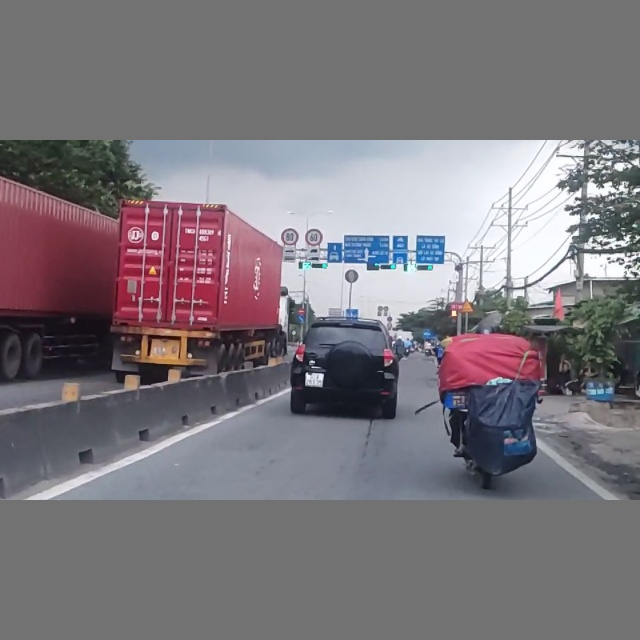P.102: (297, 307, 305, 315)
P.127*60: (305, 228, 323, 247)
P.127*80: (281, 228, 299, 245)
R.302a: (297, 315, 305, 323)
W.245a: (460, 299, 474, 313)
